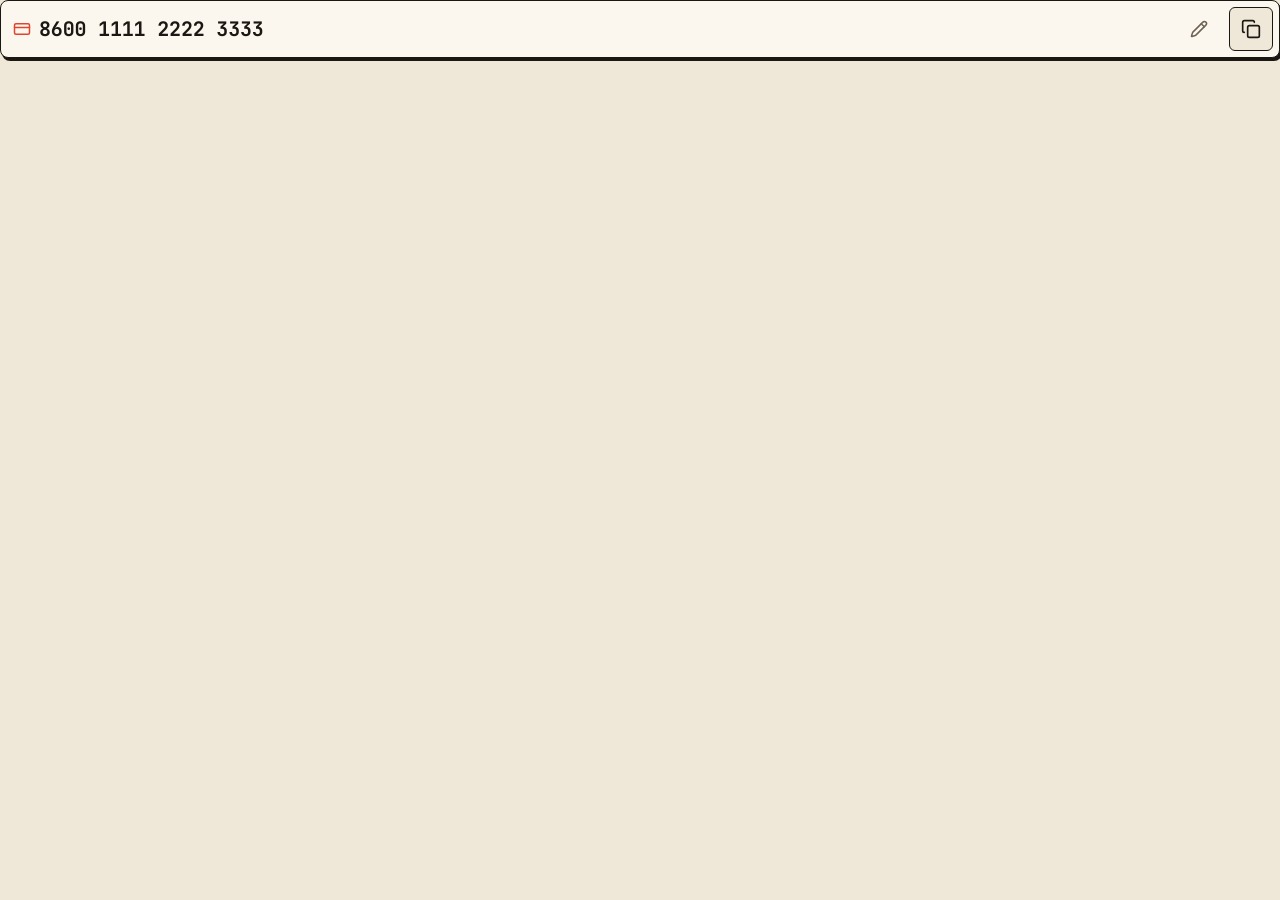
Test: PaymentCard compact mode › has a cross on every saved card, with no mode to switch into
What coordinates should you click on to do the following:
click the button named "Edit payment details"
I would click on:
 (1199, 29)
Its box is left=1177, top=7, right=1221, bottom=51.
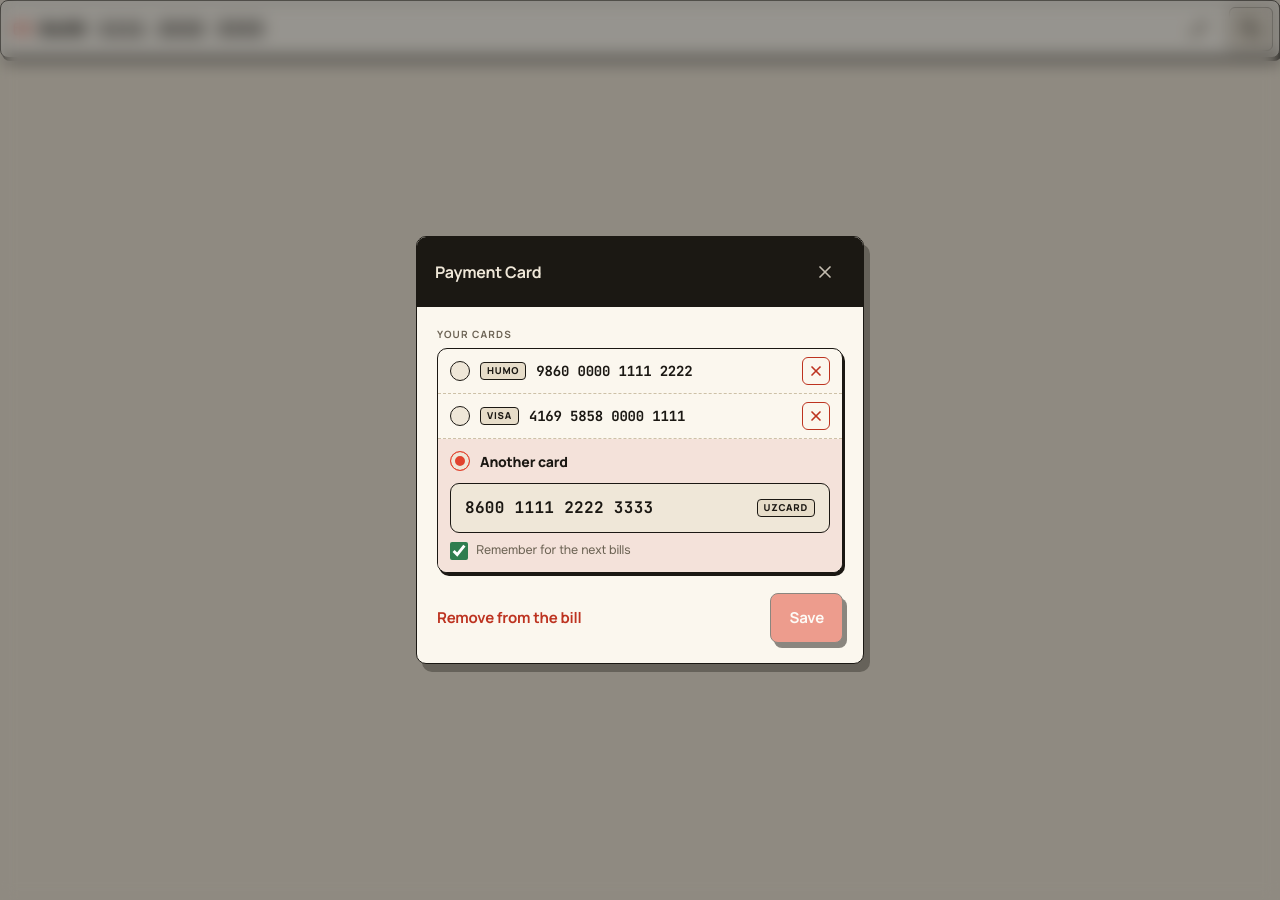
Now the radio button labelled "HUMO 9860 0000 1111 2222" is shown, box left=450, top=361, right=470, bottom=381
Now the number of buttons named "common.delete" is 2, box left=802, top=357, right=830, bottom=385; left=802, top=402, right=830, bottom=430
